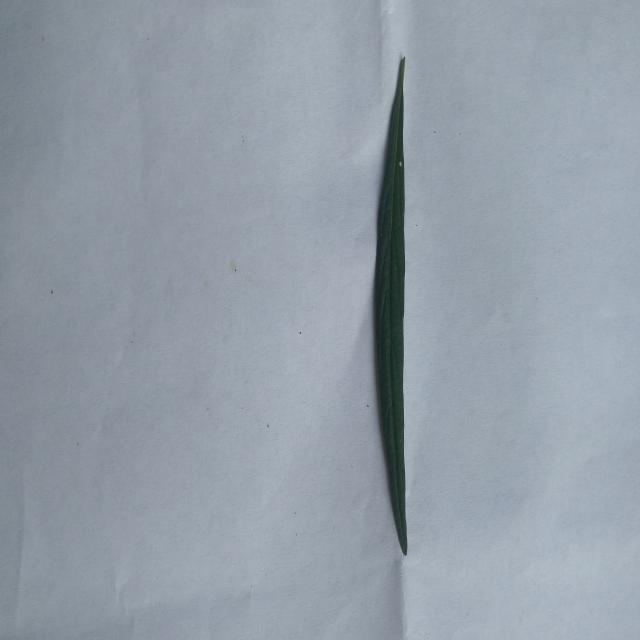thambe: (375, 58, 408, 556)
